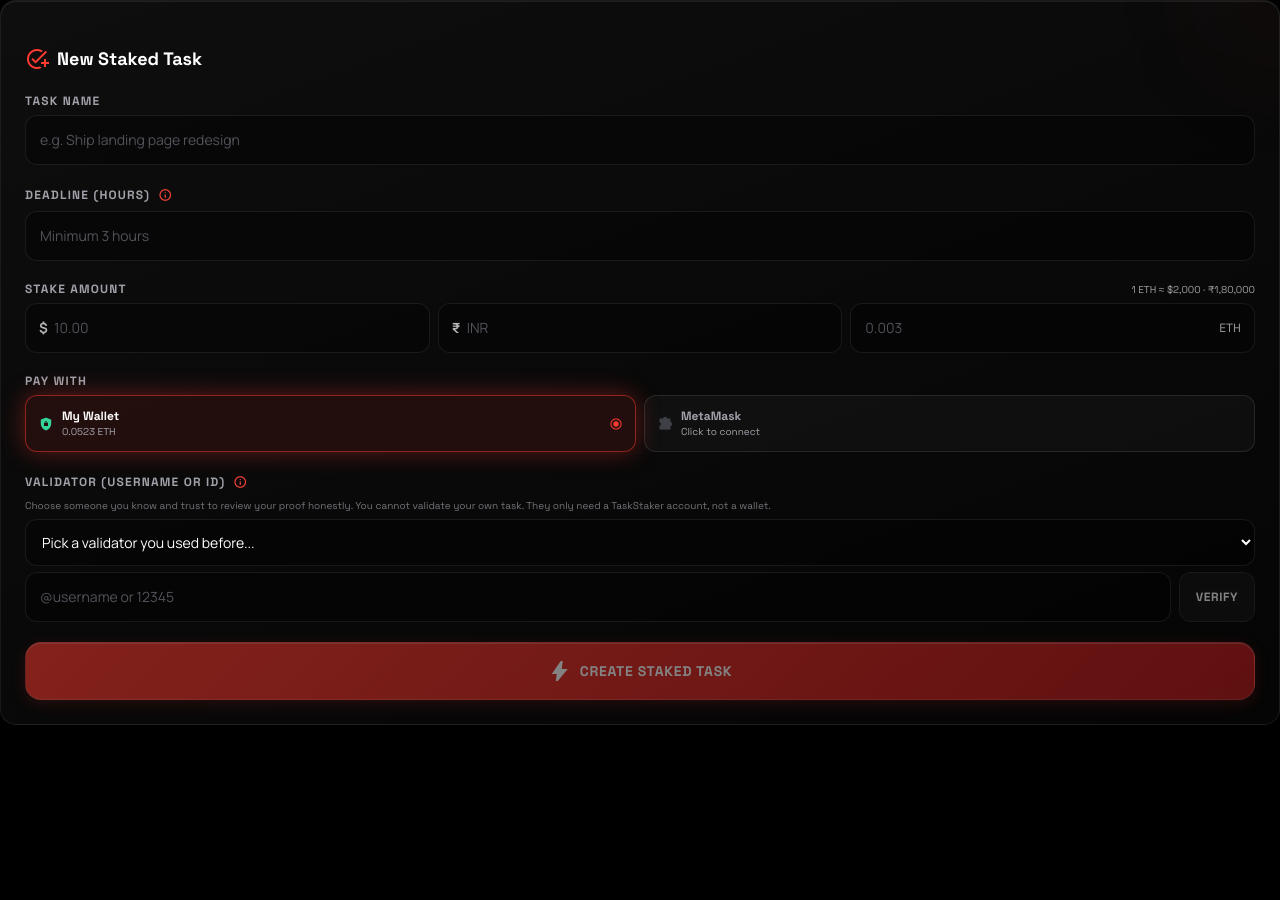
stake amount conversion › validator dropdown lists only validators from my own tasks and resolves on pick
Select "@demo_validator" in the dropdown named "Pick a validator you used before" at (640, 542), box [25, 519, 1255, 566]
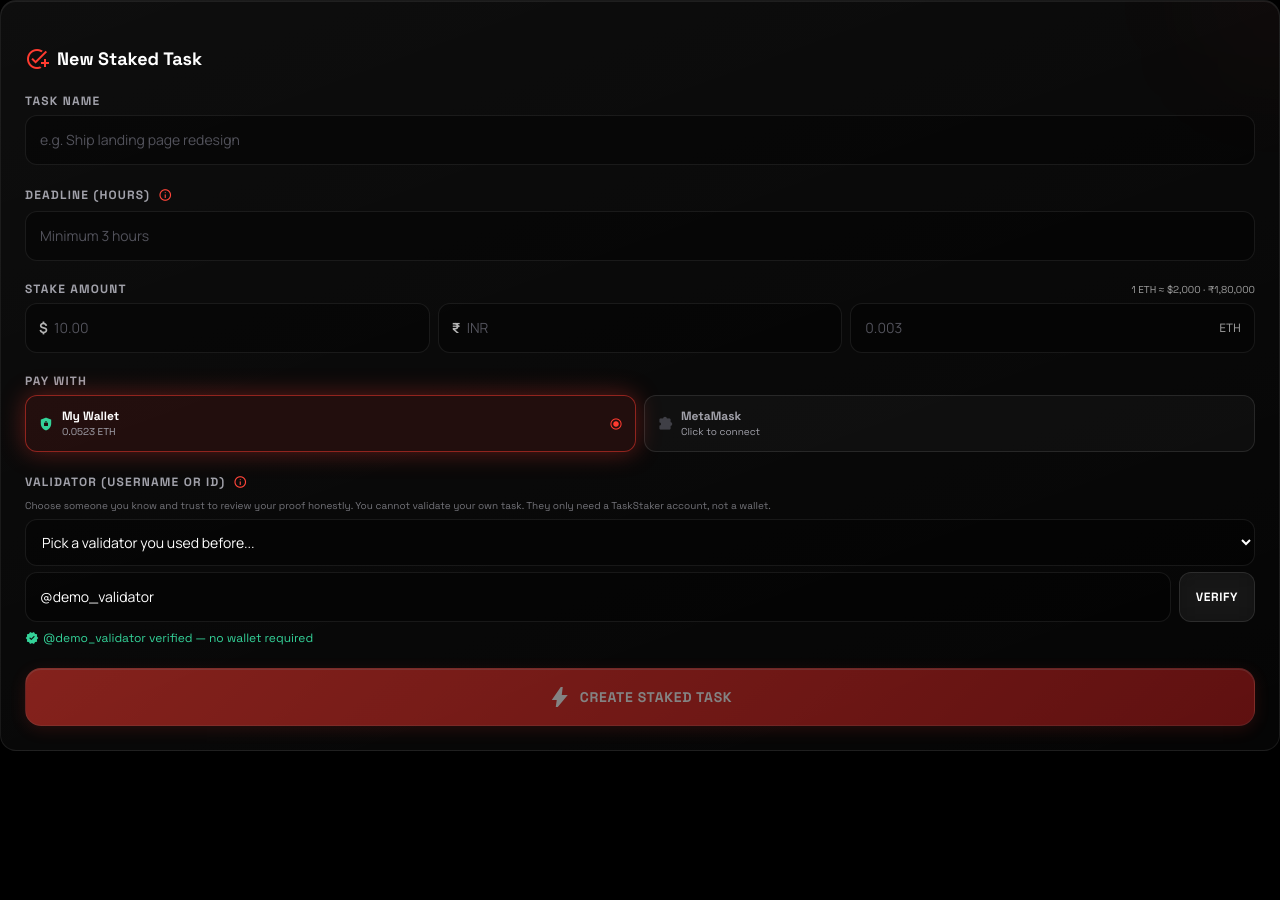
Check: the text "@demo_validator verified — no wallet required" is shown, box [25, 630, 313, 646]
Check: the field with placeholder "@username or 12345" holds "@demo_validator", box [25, 572, 1171, 622]
